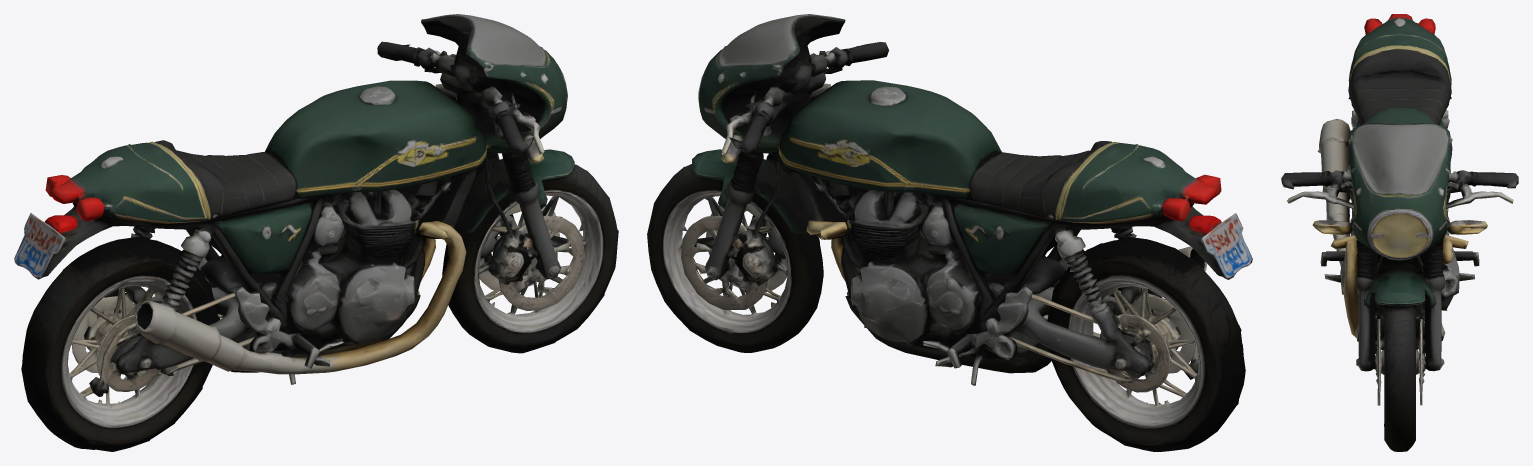
File: vintage_motorcycle_3d_model_1.fbx
The picture shows the model from 3 angles, left to right: view 1: azimuth 30°, elevation 25°; view 2: azimuth 150°, elevation 25°; view 3: azimuth 270°, elevation 25°; orthographic projection. The views are drawn at different scales.
Parts seen in each view (by area): view 1: tripo_node_28180934; view 2: tripo_node_28180934; view 3: tripo_node_28180934.
Part boxes in pixels (x1,y1,x2,y2): tripo_node_28180934: (14,14,618,451); tripo_node_28180934: (647,14,1252,451); tripo_node_28180934: (1281,14,1518,451).
Bounding box in the file's own units: 1 × 0.5567 × 0.4085.
